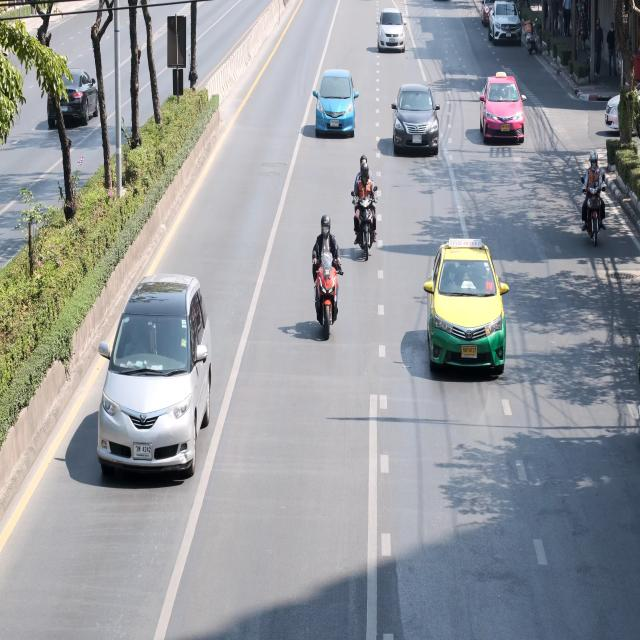cars: (92, 270, 214, 473), (425, 228, 509, 374), (309, 64, 363, 150), (478, 62, 526, 146), (49, 64, 104, 129), (390, 90, 442, 150), (486, 1, 524, 46), (378, 7, 410, 58), (481, 0, 506, 31)
motorcycle: (308, 208, 346, 342), (348, 150, 382, 261), (577, 145, 608, 255), (518, 12, 542, 58)
